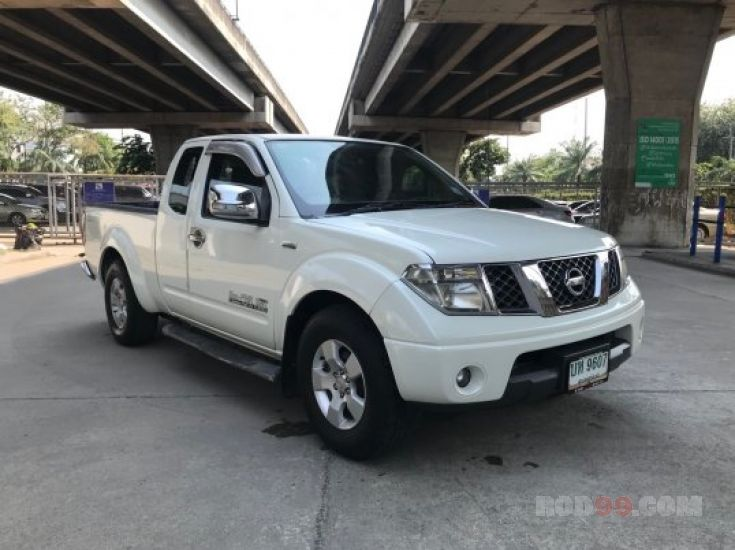pickup: (79, 131, 649, 461)
